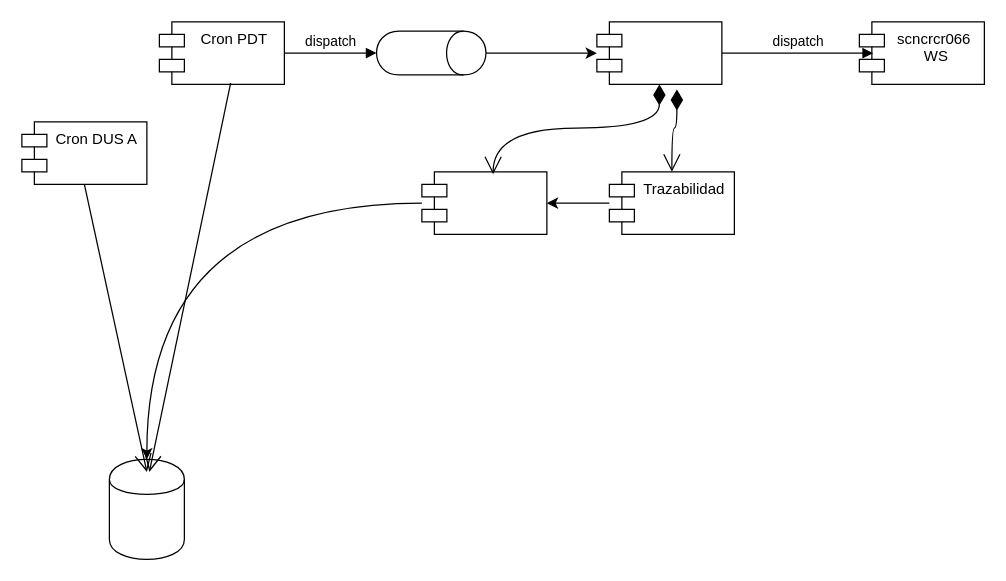
Image size: 1006x581. Some labels were removed from this diagram. The shapes that lost their labels are listed below. From the top down, each one's box as (x1, y1, x2, y2) in pixels, then its label:
(596, 21, 722, 84): Cliente WS
(421, 171, 547, 234): Acceso a Datos
